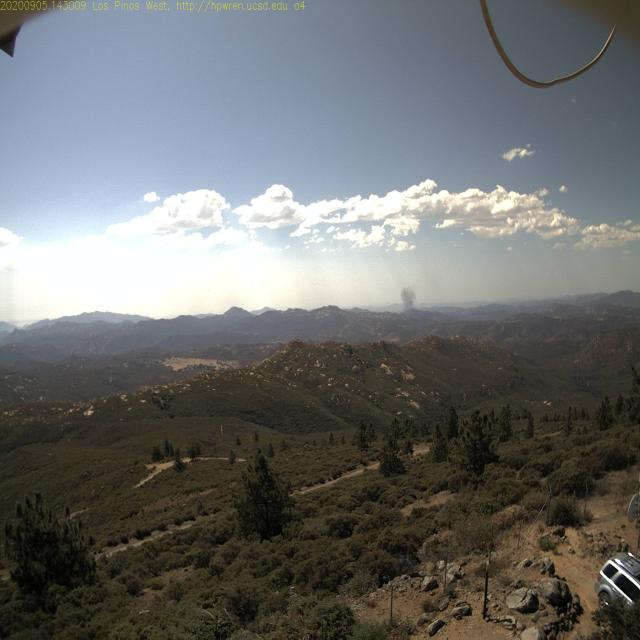smoke: (392, 283, 421, 324)
